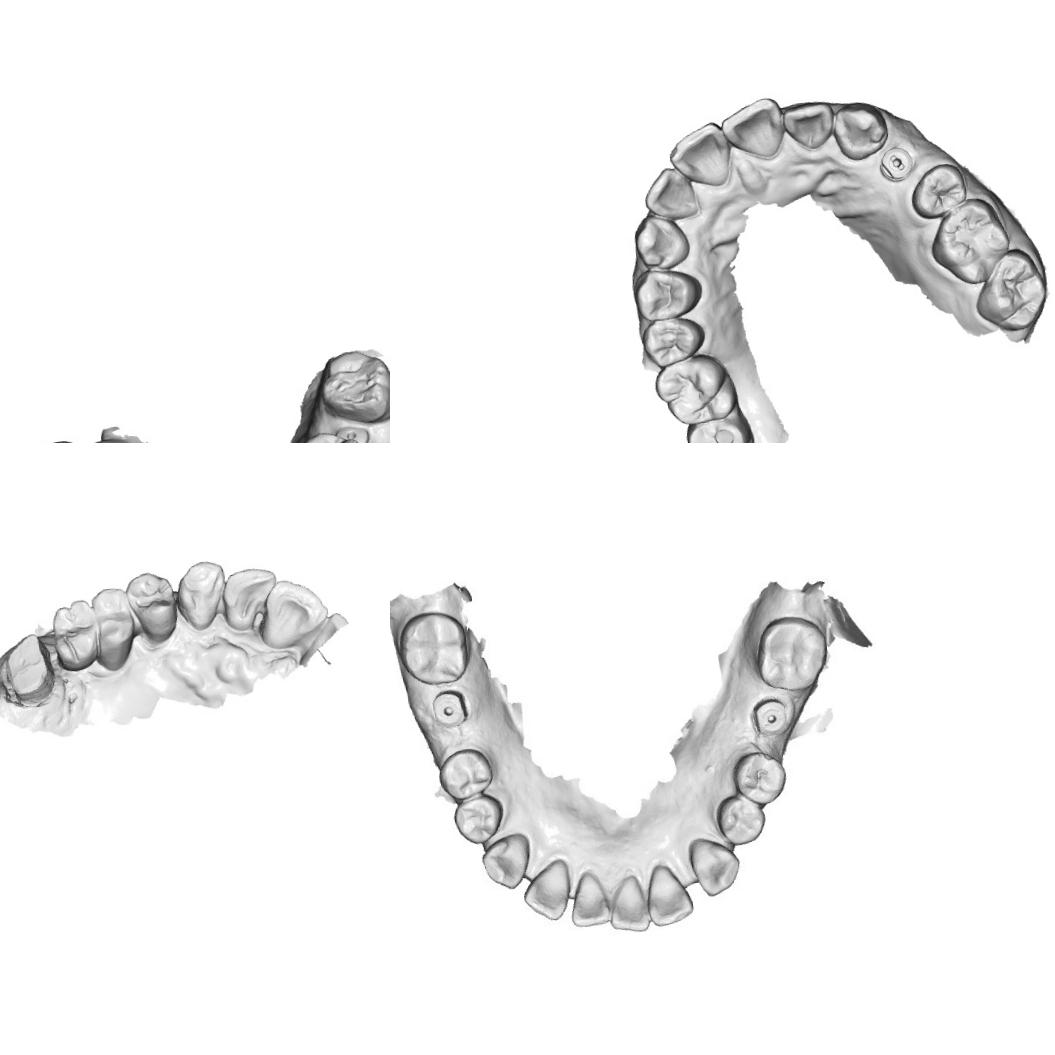canine: (170, 556, 232, 634), (630, 210, 693, 274), (685, 832, 743, 900), (830, 98, 891, 162), (478, 832, 534, 892)
crown: (0, 629, 58, 707)
implant: (426, 688, 474, 730), (749, 696, 792, 738), (333, 423, 371, 443)
implant_minus: (878, 146, 914, 183)
incisor: (253, 573, 333, 652), (665, 118, 734, 192), (718, 95, 786, 166), (219, 564, 284, 634), (518, 860, 576, 926), (640, 164, 701, 224), (644, 861, 696, 929), (780, 97, 838, 153), (604, 869, 651, 936), (564, 868, 614, 930)
molar: (924, 194, 1016, 290), (971, 244, 1052, 336), (648, 351, 742, 429), (754, 611, 833, 695), (397, 606, 473, 690), (315, 345, 390, 428), (47, 596, 102, 674), (683, 407, 758, 443)
premolar: (86, 584, 142, 674), (123, 566, 183, 648), (630, 264, 706, 322), (906, 159, 972, 224), (728, 746, 792, 810), (638, 316, 708, 370), (435, 744, 497, 804), (713, 792, 771, 848), (449, 792, 506, 848), (300, 427, 369, 443)
